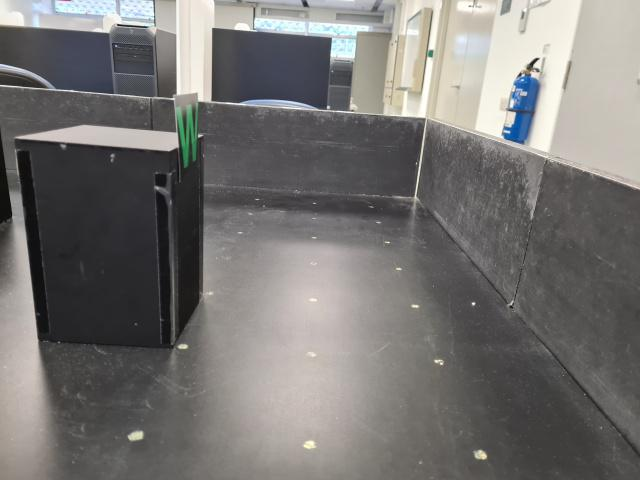w: (170, 90, 208, 183)
